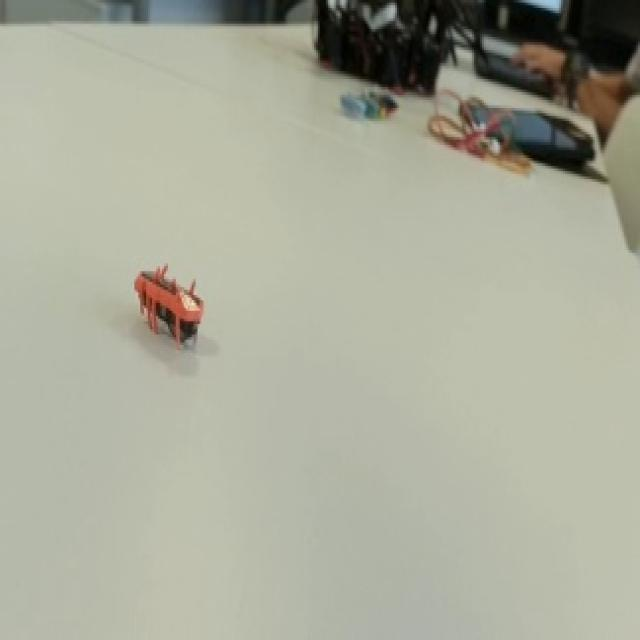7_NanoBug_Naranja: (104, 247, 234, 381)
